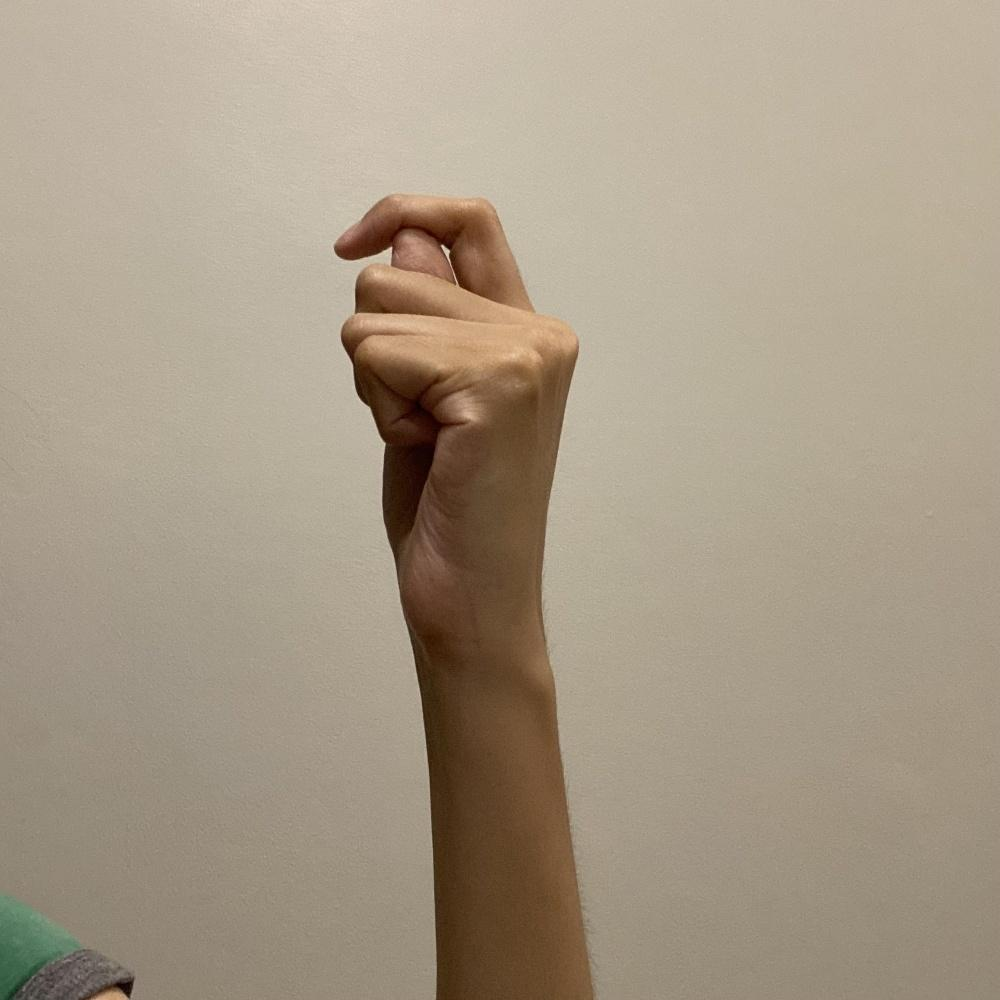t: (327, 185, 587, 660)
